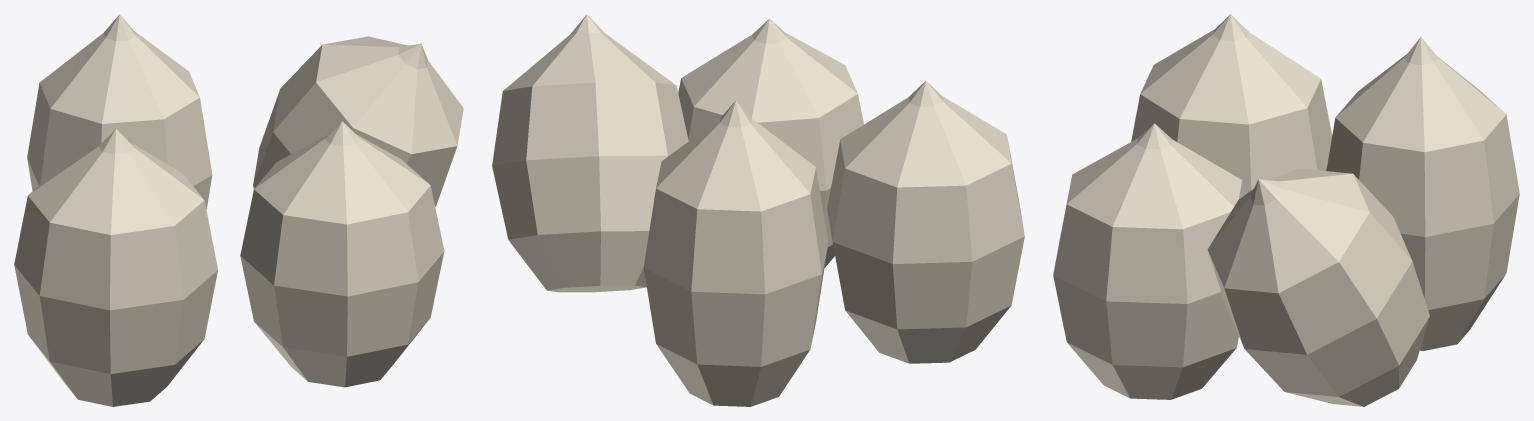
The model's file is flour_sacks.glb.
The picture shows the model from 3 angles, left to right: view 1: azimuth 30°, elevation 25°; view 2: azimuth 150°, elevation 25°; view 3: azimuth 270°, elevation 25°; orthographic projection. The views are drawn at different scales.
Parts seen in each view (by area): view 1: flour_sack_1, flour_sack_2, flour_sack_4, flour_sack_3; view 2: flour_sack_3, flour_sack_1, flour_sack_4, flour_sack_2; view 3: flour_sack_2, flour_sack_4, flour_sack_3, flour_sack_1.
Boxes of the visible parts, x1,y1,x2,y2 form: flour_sack_1: (14, 128, 217, 406); flour_sack_2: (240, 121, 444, 387); flour_sack_4: (253, 36, 463, 206); flour_sack_3: (27, 14, 212, 209); flour_sack_3: (643, 100, 828, 406); flour_sack_1: (827, 81, 1024, 363); flour_sack_4: (492, 14, 688, 292); flour_sack_2: (678, 18, 863, 267); flour_sack_2: (1053, 123, 1245, 399); flour_sack_4: (1207, 168, 1429, 406); flour_sack_3: (1326, 37, 1519, 350); flour_sack_1: (1131, 14, 1332, 194).
Bounding box in the file's own units: 1.45 × 0.851 × 1.23.
